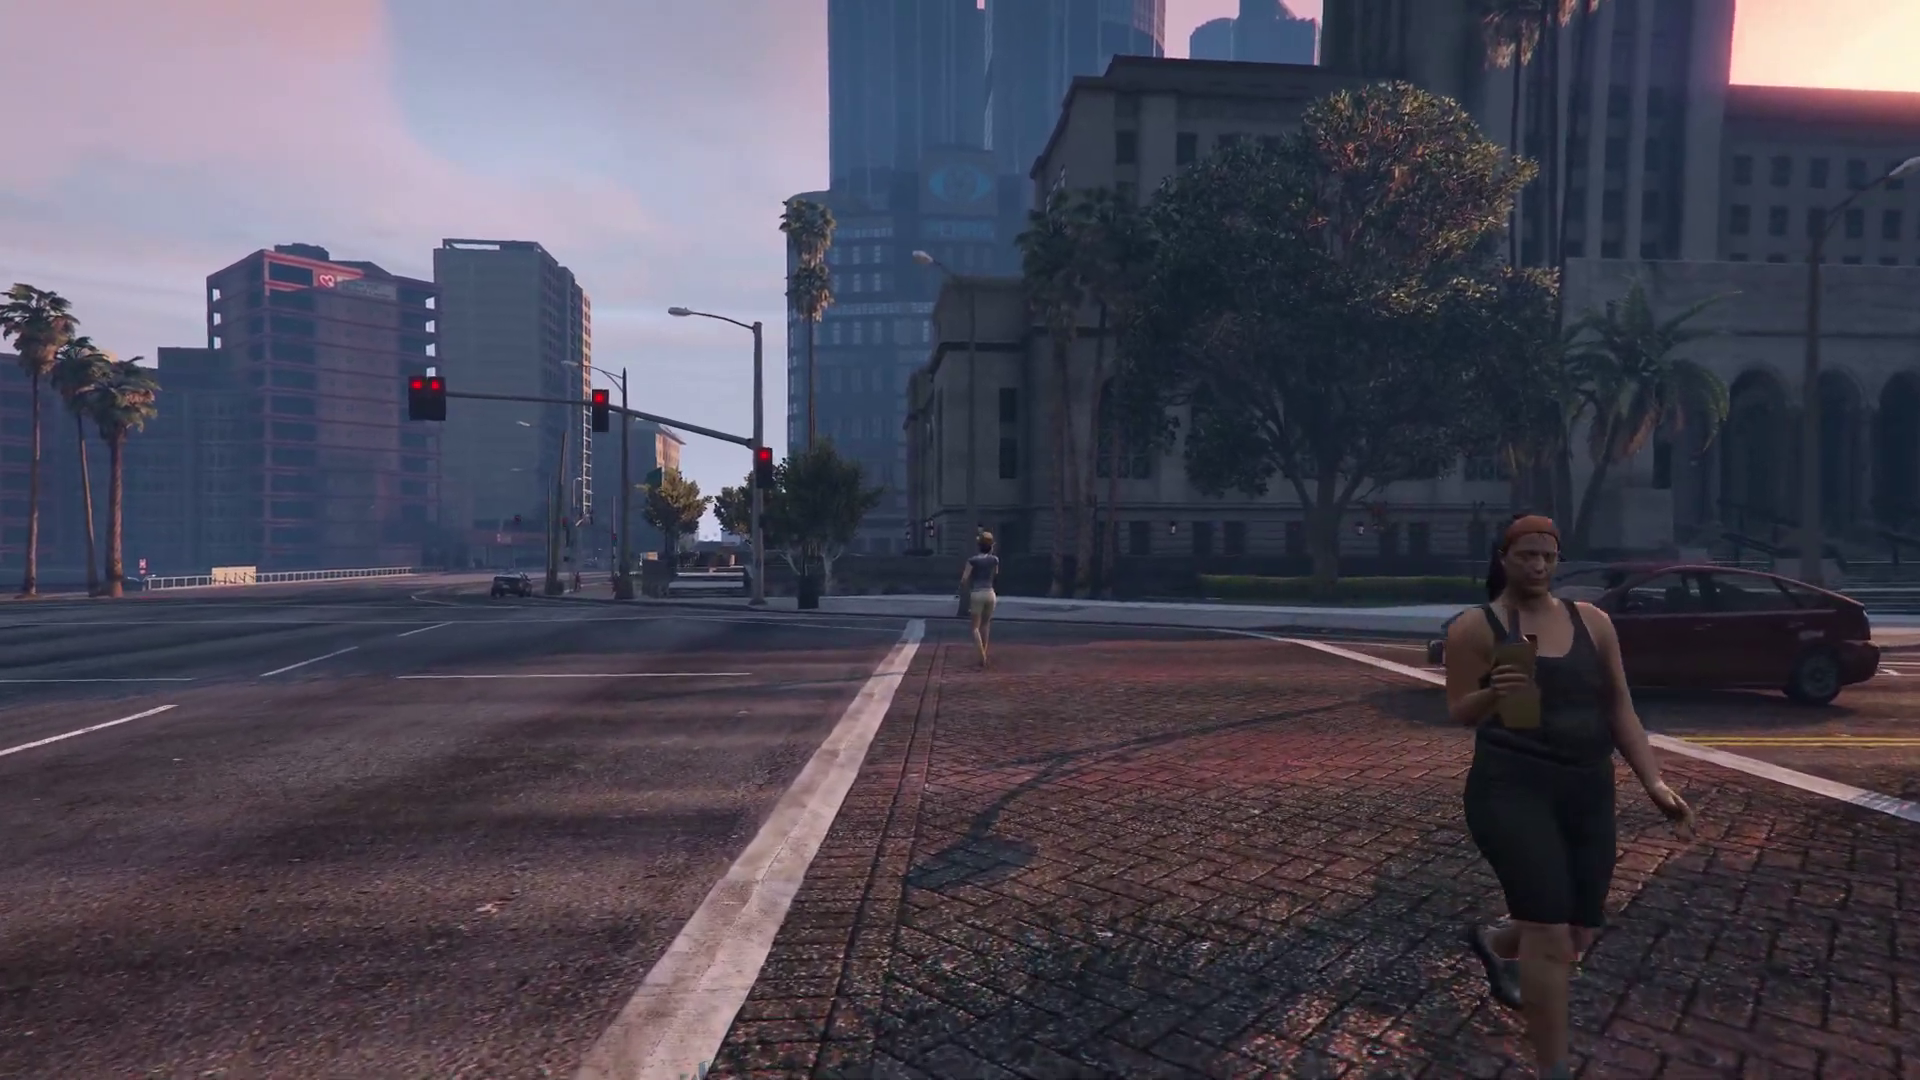car: (1428, 562, 1885, 708), (492, 571, 534, 599)
person: (1446, 511, 1695, 1080), (959, 530, 1000, 666)
traffic light: (409, 376, 445, 422), (592, 389, 609, 434), (755, 448, 774, 484)
